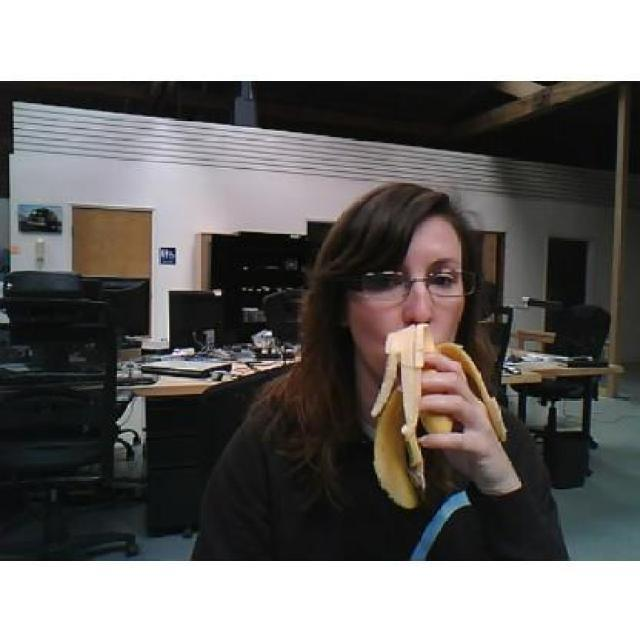Banana: (368, 320, 508, 511)
